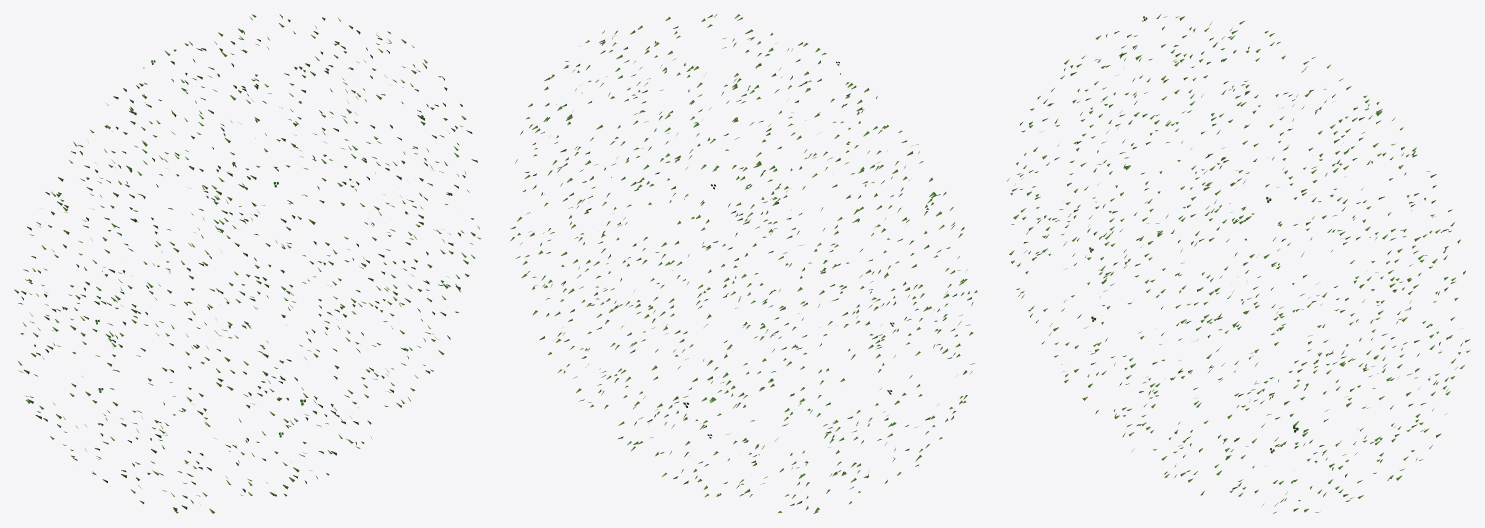
The model's file is Grass_Tile_SportsTurf.glb.
3 renders of one model, left to right at view 1: azimuth 30°, elevation 25°; view 2: azimuth 150°, elevation 25°; view 3: azimuth 330°, elevation 25°, orthographic.
Visible parts, largest first — view 1: Grass_Tile_SportsTurf; view 2: Grass_Tile_SportsTurf; view 3: Grass_Tile_SportsTurf.
Part boxes in pixels (bbox=[...]): Grass_Tile_SportsTurf: bbox=[14, 14, 480, 513]; Grass_Tile_SportsTurf: bbox=[510, 14, 977, 513]; Grass_Tile_SportsTurf: bbox=[1007, 14, 1470, 513].
Bounding box in the file's own units: 1.98 × 1.98 × 0.0422.
